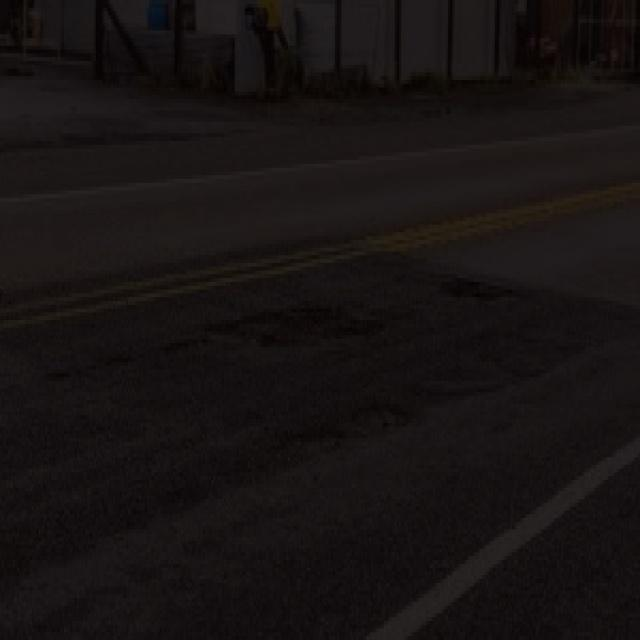Pothole: (209, 294, 396, 368), (269, 394, 413, 468), (414, 271, 535, 312)
